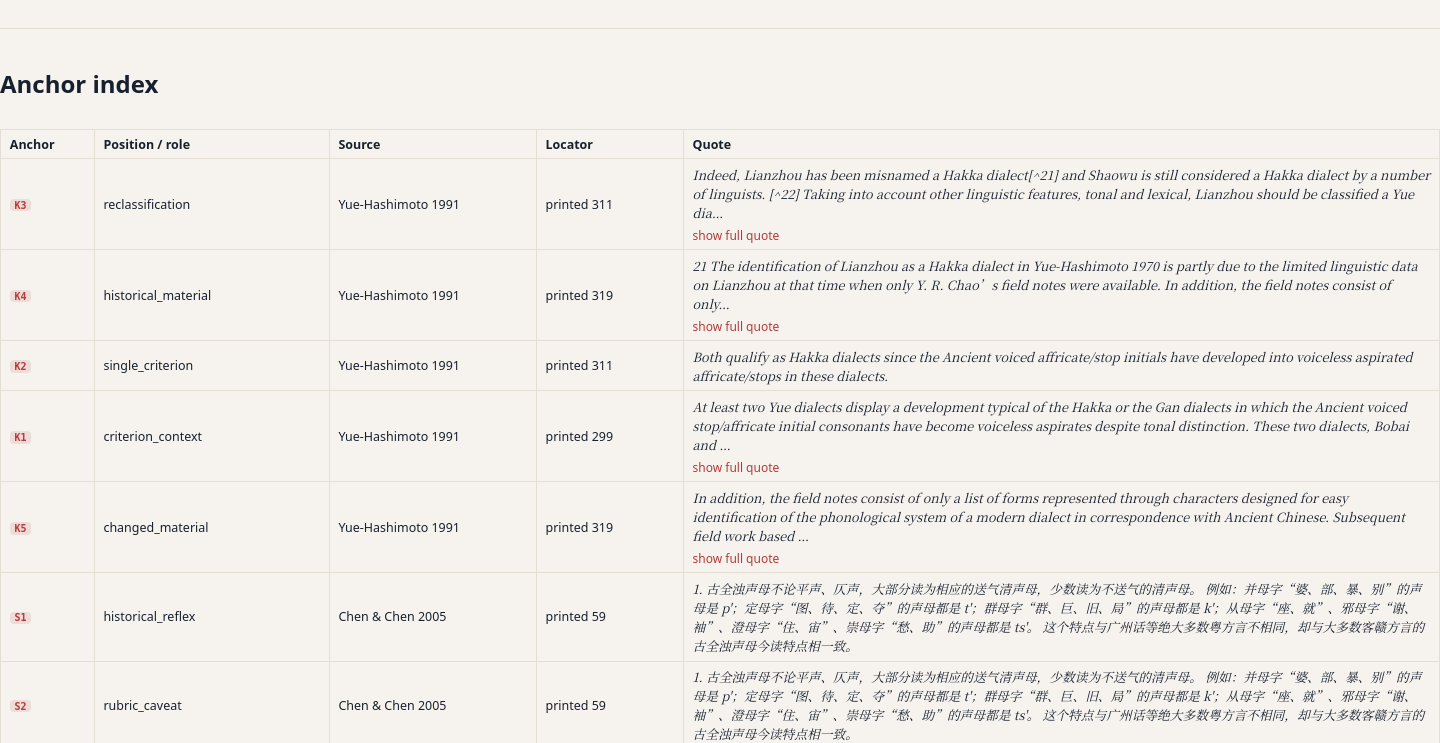
Scenario: AnchorIndex › expands the K3 quote in full on 'show full quote' click
Click the 1st button "show full quote".
click(736, 235)  # box 692,227 -> 779,244
(page scrolled)
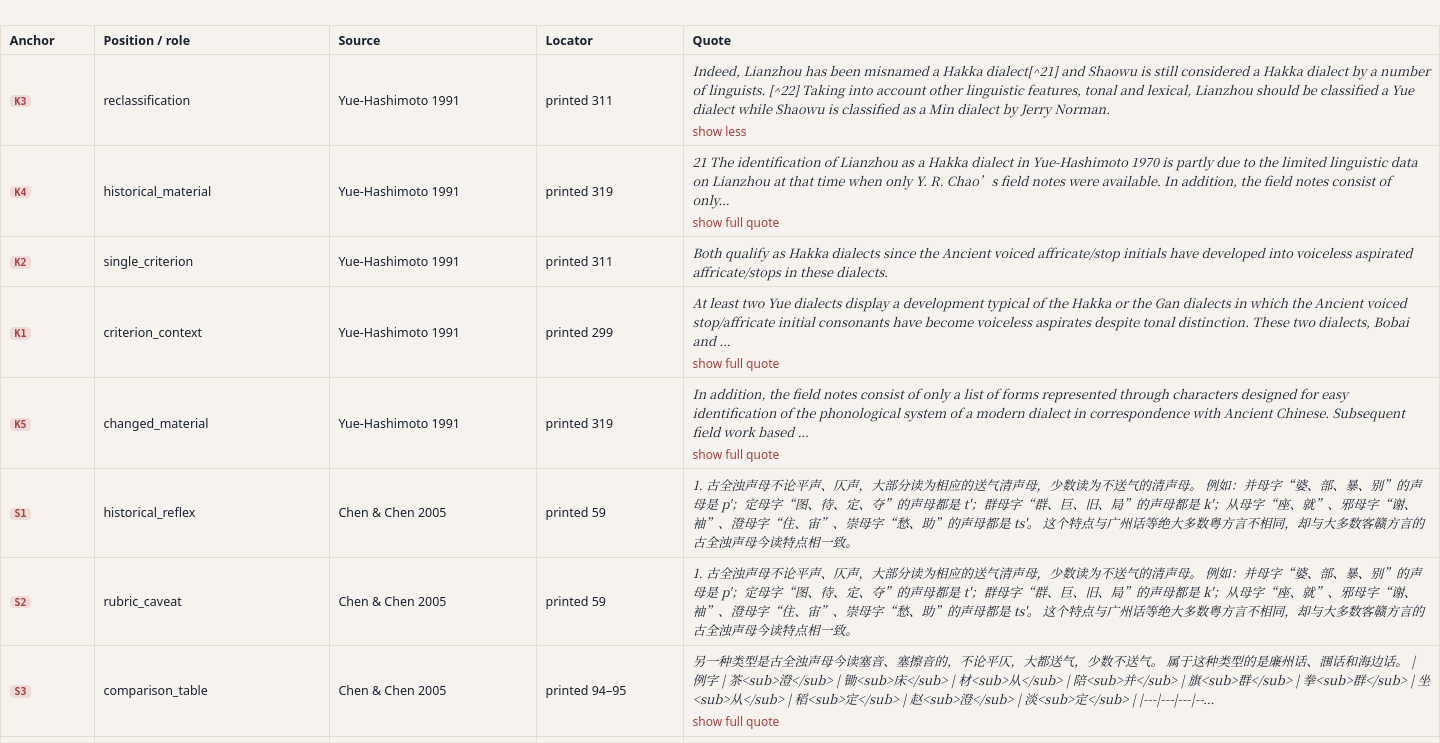
Now the table with class "anchor-index-table" shows "Indeed, Lianzhou has been misnamed a Hakka dialect[^21] and Shaowu is still considered a Hakka dialect by a number of linguists. [^22] Taking into account other", box 692,61 -> 1430,118
